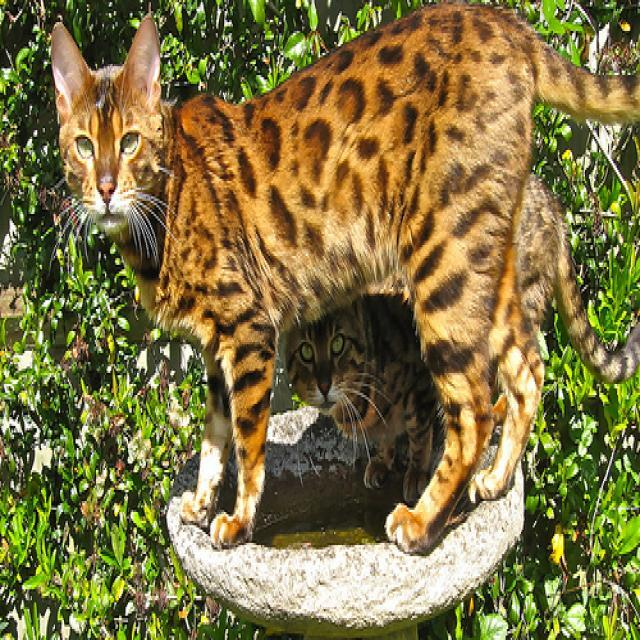Bengal: (43, 9, 173, 247)
